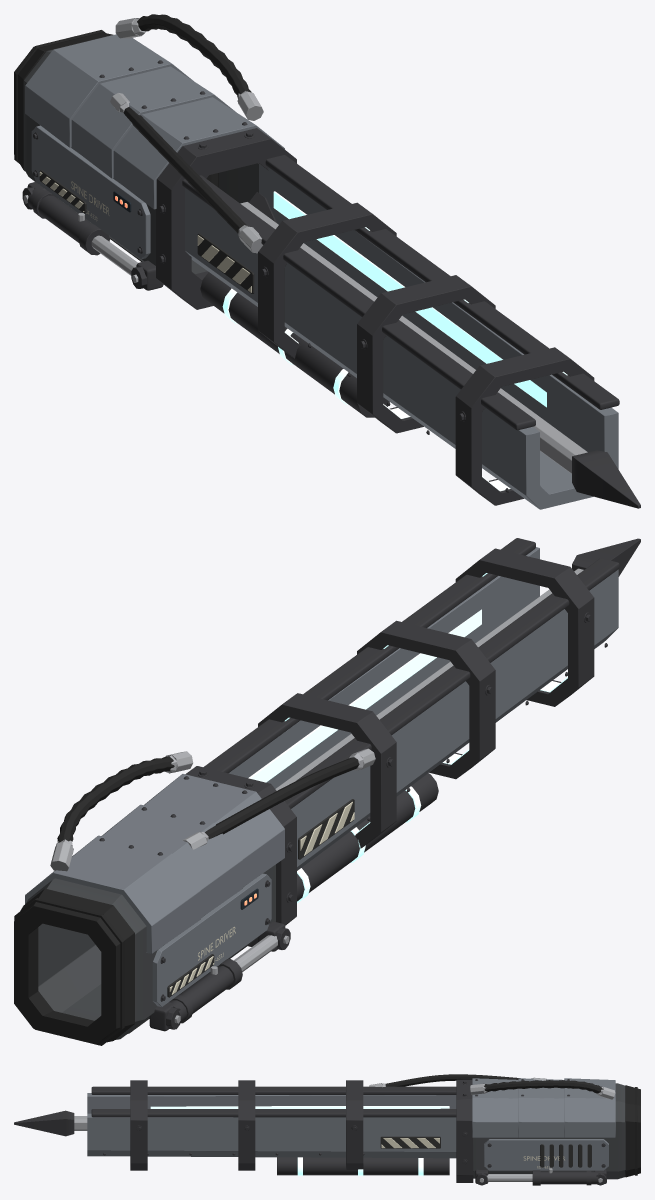
The model's file is spinedriver.glb.
3 renders of one model, top to bottom at view 1: azimuth 30°, elevation 25°; view 2: azimuth 150°, elevation 25°; view 3: azimuth 270°, elevation 25°, orthographic. The views are drawn at different scales.
Visible parts, largest first — view 1: Body; view 2: Body; view 3: Body.
Boxes of the visible parts, x1,y1,x2,y2 form: Body: (14,14,640,509); Body: (14,538,640,1045); Body: (14,1074,640,1185).
Size of the model in its own units: 0.2301 by 0.2766 by 1.45.
